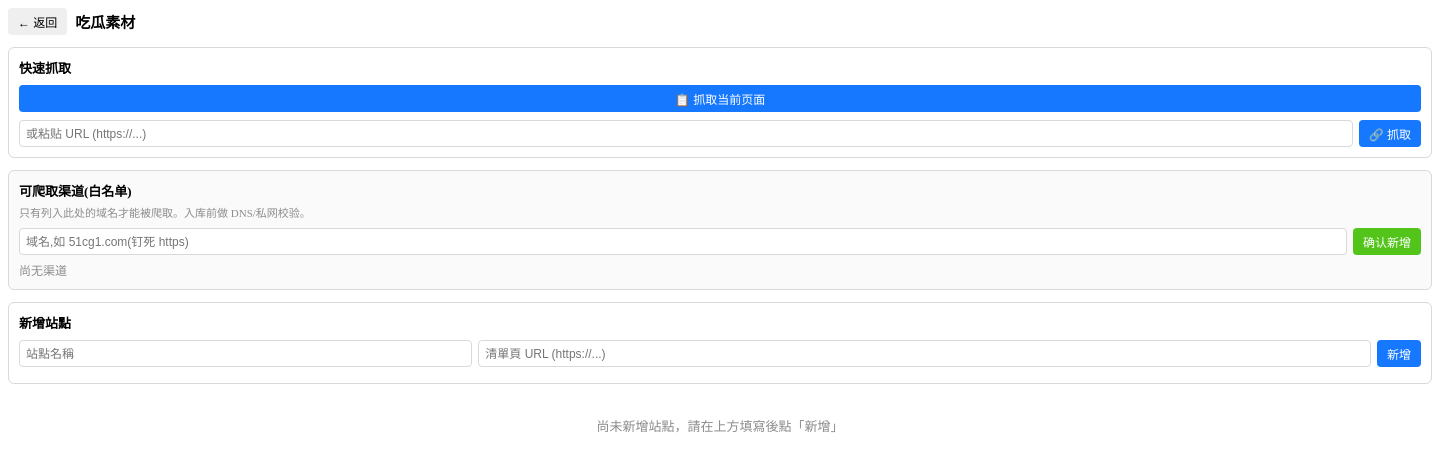
Test: GossipView › 新增渠道失败(如同形被拒)显示错误
Type "аpple.com" into the field with placeholder "域名,如 51cg1.com(钉死 https)". click: coordinates (683, 242)
box: [19,228,1347,255]
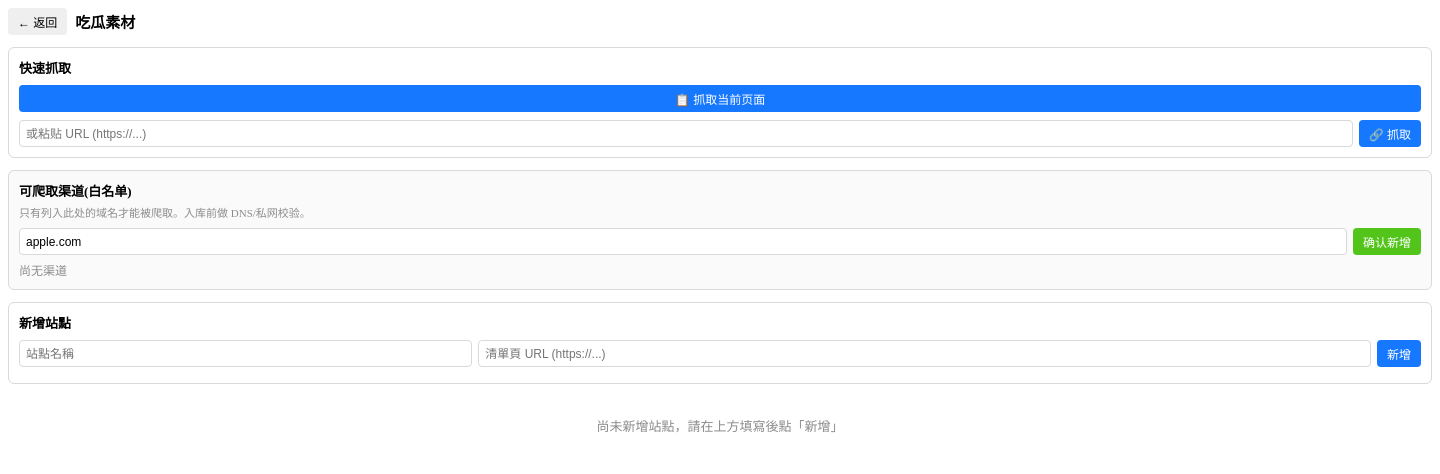
Click the button "确认新增". click: coordinates (1387, 242)
box: [1353,228,1421,255]
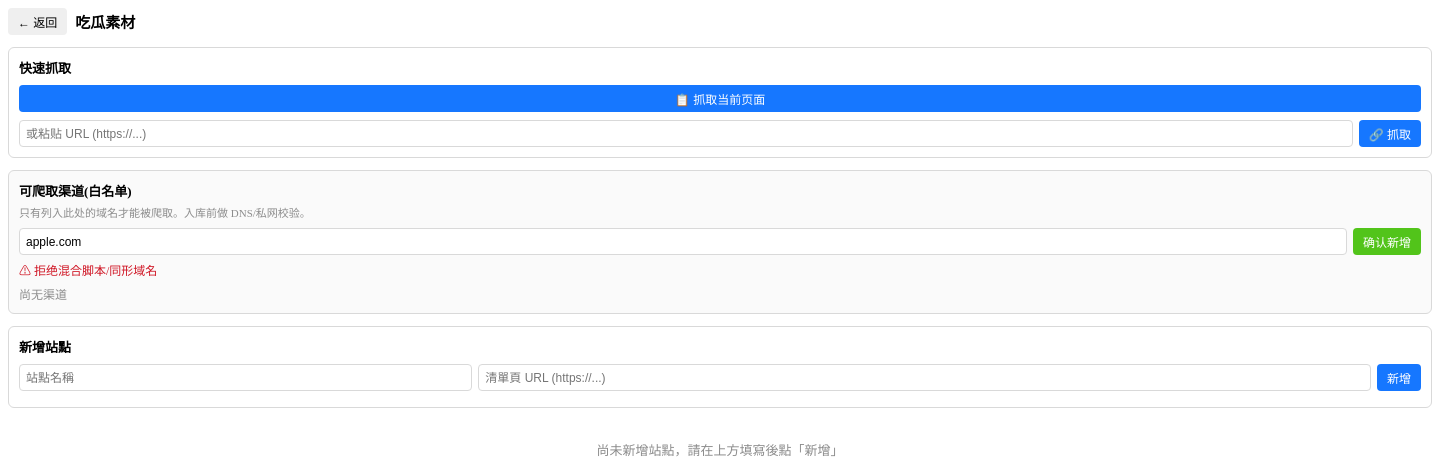
Now the text "⚠ 拒绝混合脚本/同形域名" is shown, box [19,264,157,278]
